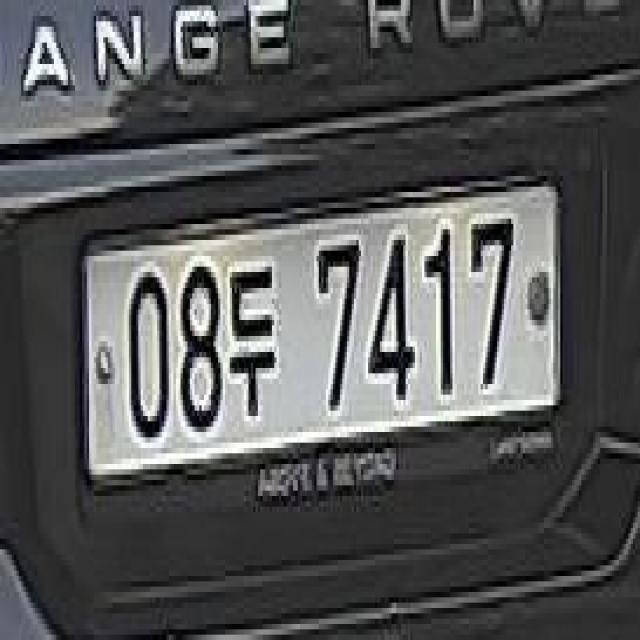illegal_plate: (77, 176, 566, 516)
